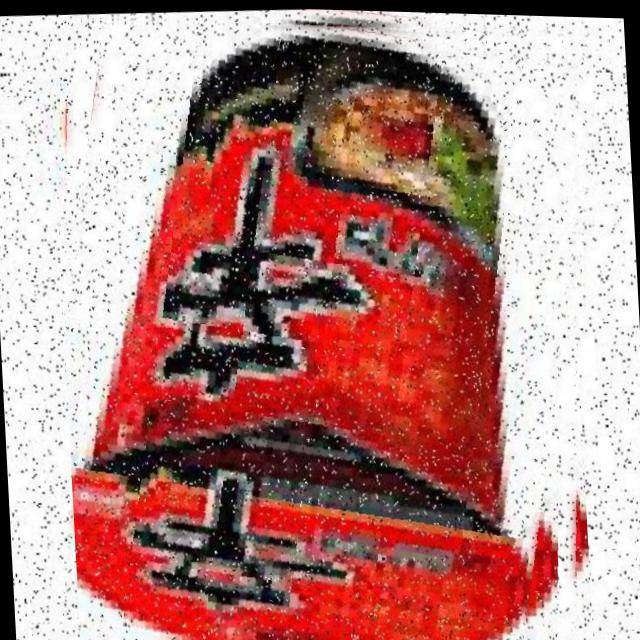Miscellaneous: (47, 1, 611, 640)
